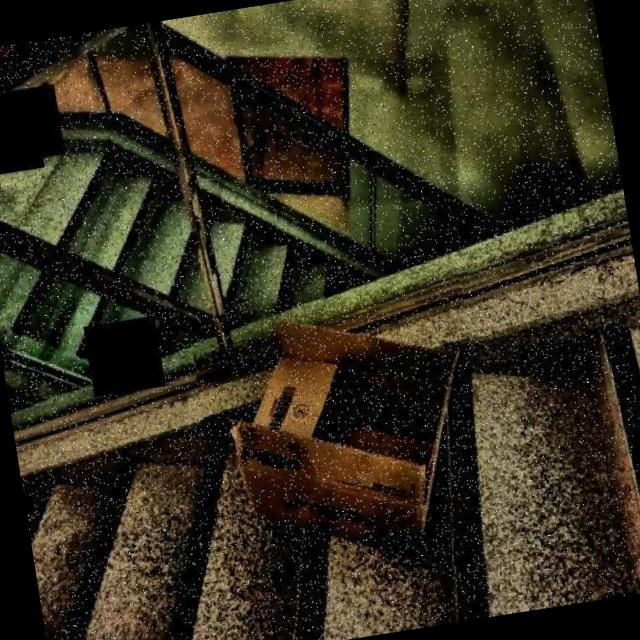box: (188, 277, 505, 602)
